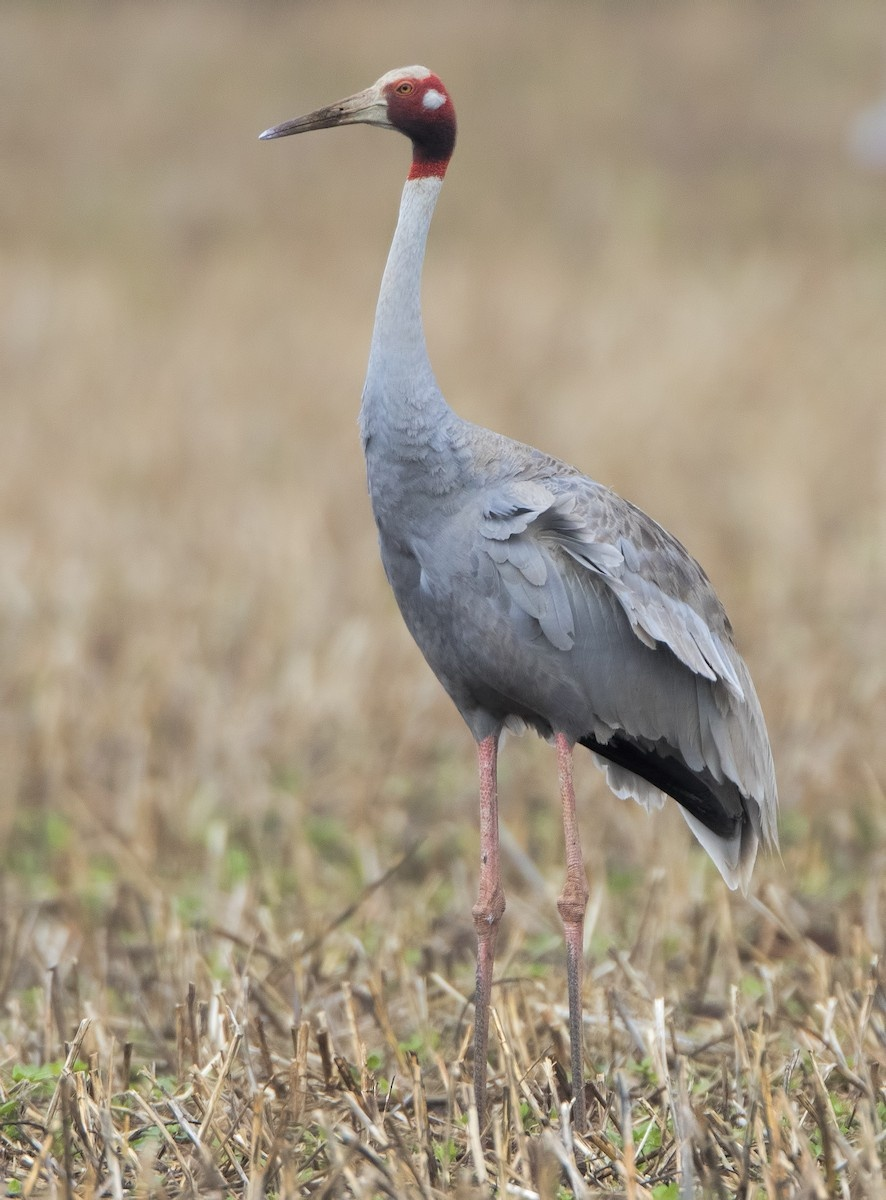crane: (251, 57, 822, 1117)
